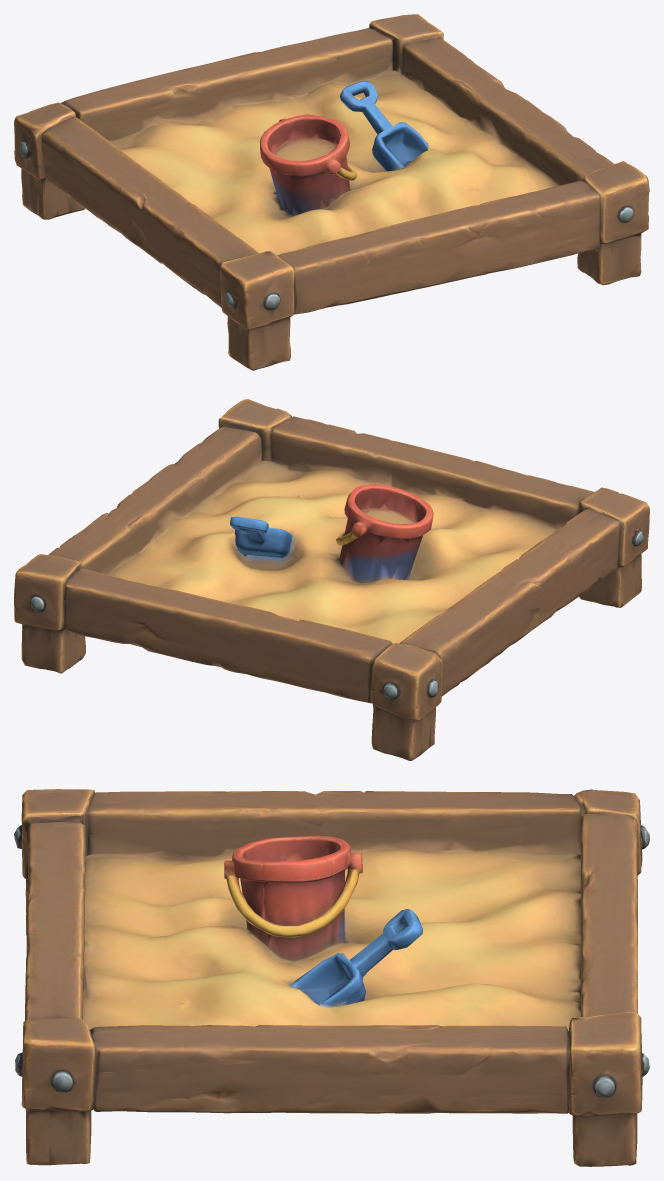
The model's file is arenero.glb.
The picture shows the model from 3 angles, top to bottom: view 1: azimuth 30°, elevation 25°; view 2: azimuth 150°, elevation 25°; view 3: azimuth 270°, elevation 25°; orthographic projection. The views are drawn at different scales.
Visible parts, largest first — view 1: tripo_node_a4854091-ea32-4e3e-b07a-77999593b2bb; view 2: tripo_node_a4854091-ea32-4e3e-b07a-77999593b2bb; view 3: tripo_node_a4854091-ea32-4e3e-b07a-77999593b2bb.
Boxes of the visible parts, box(x1,y1,x2,y2) form: tripo_node_a4854091-ea32-4e3e-b07a-77999593b2bb: box(14, 14, 649, 370); tripo_node_a4854091-ea32-4e3e-b07a-77999593b2bb: box(14, 399, 649, 760); tripo_node_a4854091-ea32-4e3e-b07a-77999593b2bb: box(14, 789, 649, 1166).
Size of the model in its own units: 1 by 0.3031 by 0.9974.
Materials: 1 (1 with a texture image).
